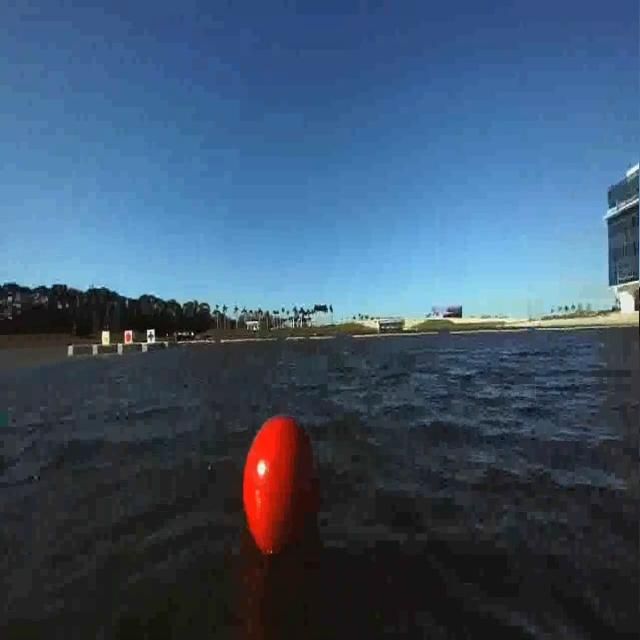red-buoy: (242, 413, 326, 558)
